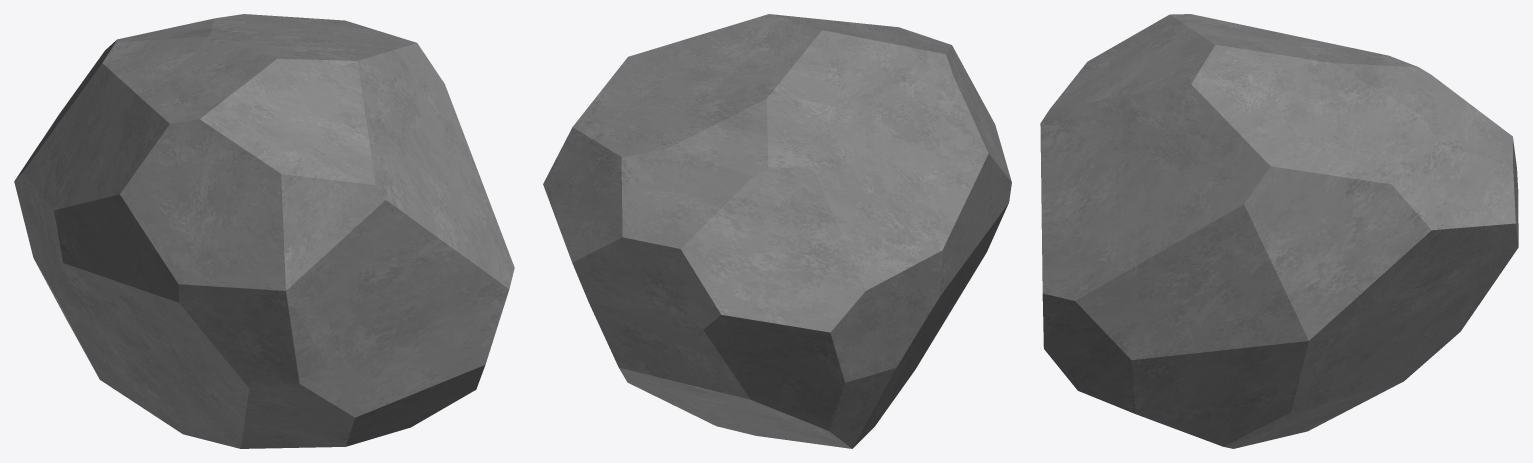
Rendered from Rock_4.glb.
The picture shows the model from 3 angles, left to right: view 1: azimuth 30°, elevation 25°; view 2: azimuth 150°, elevation 25°; view 3: azimuth 270°, elevation 25°; orthographic projection. The views are drawn at different scales.
Visible parts, largest first — view 1: Rock.010; view 2: Rock.010; view 3: Rock.010.
Part boxes in pixels (x1,y1,x2,y2): Rock.010: [14, 14, 514, 448]; Rock.010: [543, 14, 1011, 448]; Rock.010: [1040, 14, 1518, 448].
Size of the model in its own units: 1.4 by 1.32 by 1.59.
1 material, 1 textured.
